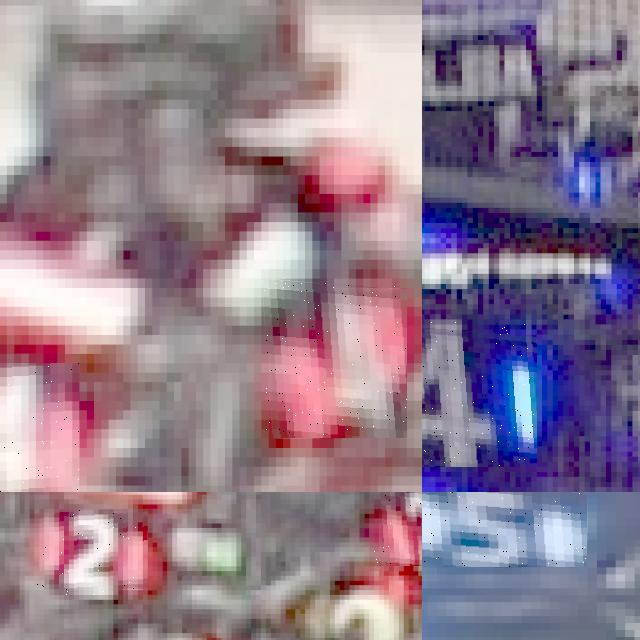B4: (422, 319, 536, 466)
B5: (422, 492, 587, 567)
R2: (34, 509, 148, 595), (374, 492, 422, 566)
R4: (261, 278, 407, 438), (0, 363, 79, 492)
